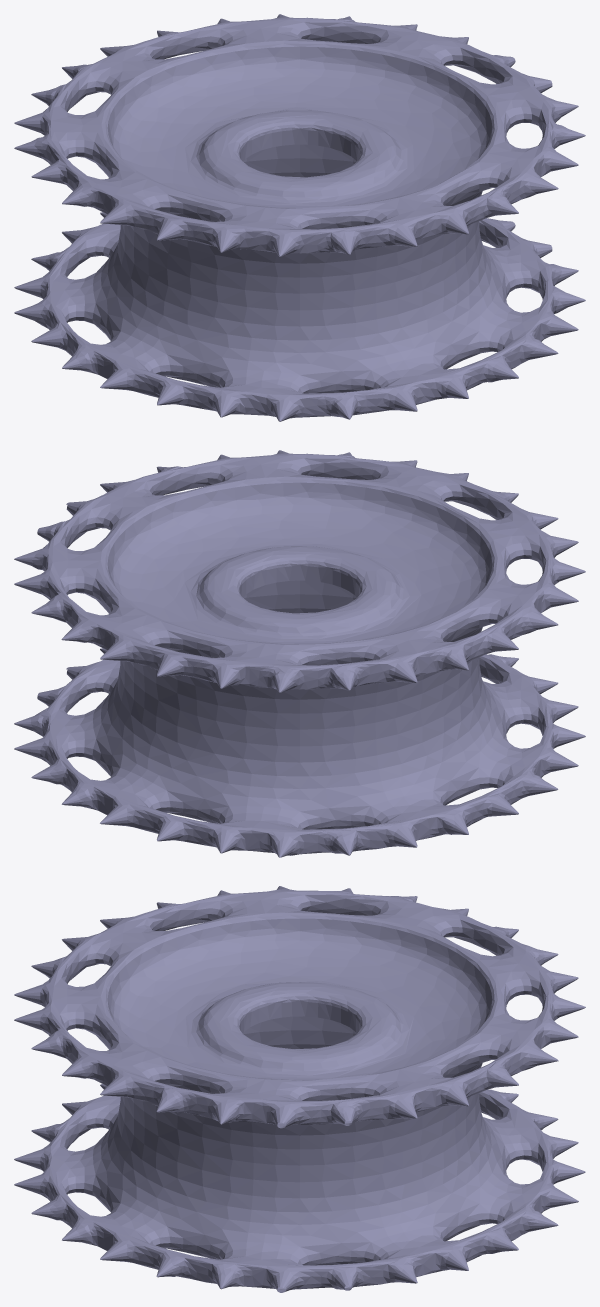
The model's file is sprocket_LowPoly.obj.
3 renders of one model, top to bottom at view 1: azimuth 30°, elevation 25°; view 2: azimuth 150°, elevation 25°; view 3: azimuth 270°, elevation 25°, orthographic.
Parts seen in each view (by area): view 1: sprocket_LowPoly\Facets; view 2: sprocket_LowPoly\Facets; view 3: sprocket_LowPoly\Facets.
Part boxes in pixels (left/top/right/bottom): sprocket_LowPoly\Facets: left=14, top=14, right=585, bottom=421; sprocket_LowPoly\Facets: left=14, top=450, right=585, bottom=857; sprocket_LowPoly\Facets: left=14, top=886, right=585, bottom=1292.
Size of the model in its own units: 0.7407 by 0.2703 by 0.7481.
